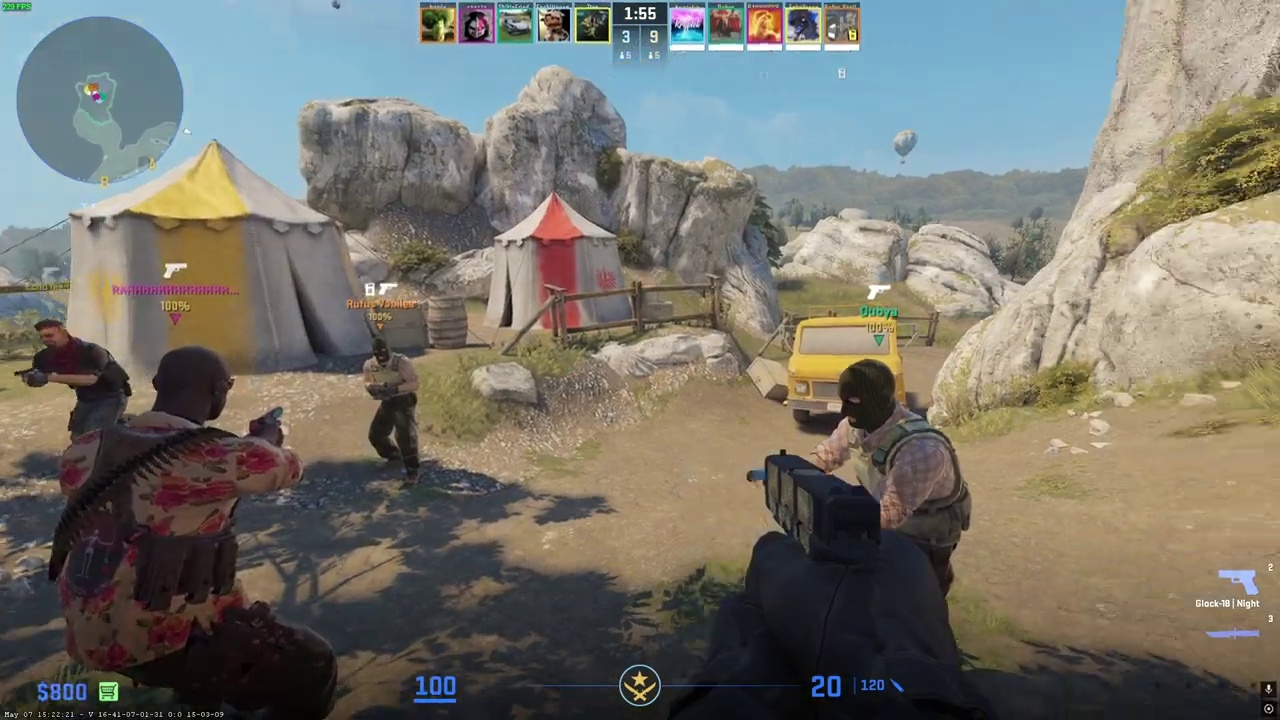Terrorist: (59, 346, 337, 720), (827, 359, 970, 617), (20, 321, 131, 436), (364, 336, 420, 485)
